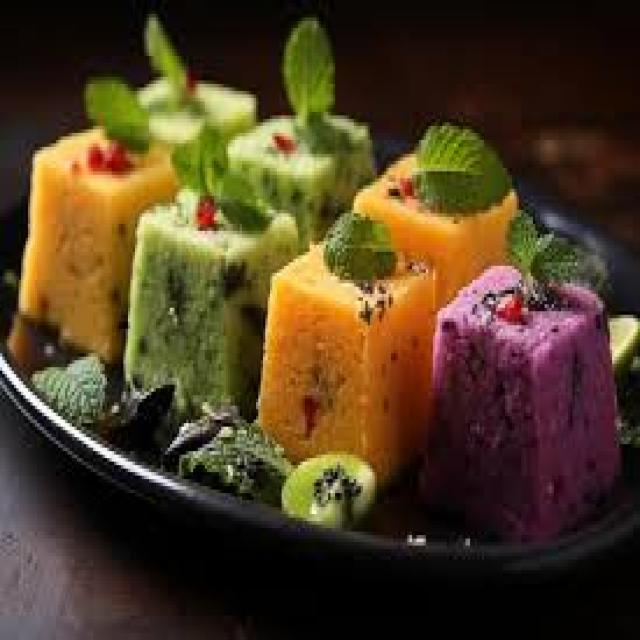DHOKLA: (421, 260, 618, 544), (260, 213, 433, 486), (135, 167, 300, 417), (24, 108, 174, 351), (355, 151, 513, 302), (235, 108, 372, 237), (130, 62, 254, 145)
